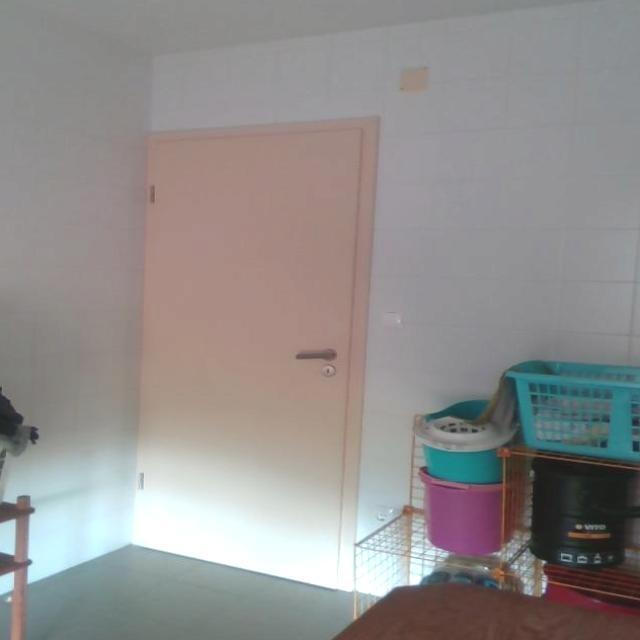door: (133, 116, 377, 592)
